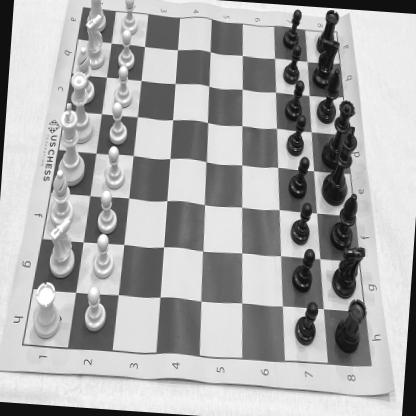black-bishop: (327, 191, 358, 250), (316, 67, 340, 123)
black-king: (322, 124, 360, 205)
black-knight: (330, 244, 366, 301), (313, 34, 340, 89)
black-pawn: (294, 297, 320, 347), (290, 248, 317, 294), (288, 155, 310, 199), (290, 201, 312, 245), (286, 115, 306, 158), (282, 44, 302, 86), (285, 80, 305, 122), (282, 8, 302, 50)
black-queen: (322, 98, 355, 169)
black-rook: (333, 298, 368, 356), (316, 8, 340, 57)
white-bishop: (48, 168, 76, 228), (73, 45, 98, 104)
white-king: (55, 103, 89, 188)
white-knight: (46, 217, 78, 280), (81, 13, 109, 70)
white-pawn: (82, 286, 110, 334), (96, 189, 120, 235), (92, 234, 116, 280), (105, 145, 127, 188), (107, 102, 129, 144), (116, 30, 138, 70), (113, 66, 133, 108), (120, 0, 141, 36)
white-queen: (64, 71, 96, 146)
white-rook: (30, 280, 64, 340), (86, 0, 108, 33)
